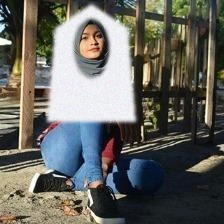Mukena: (46, 4, 136, 121)
